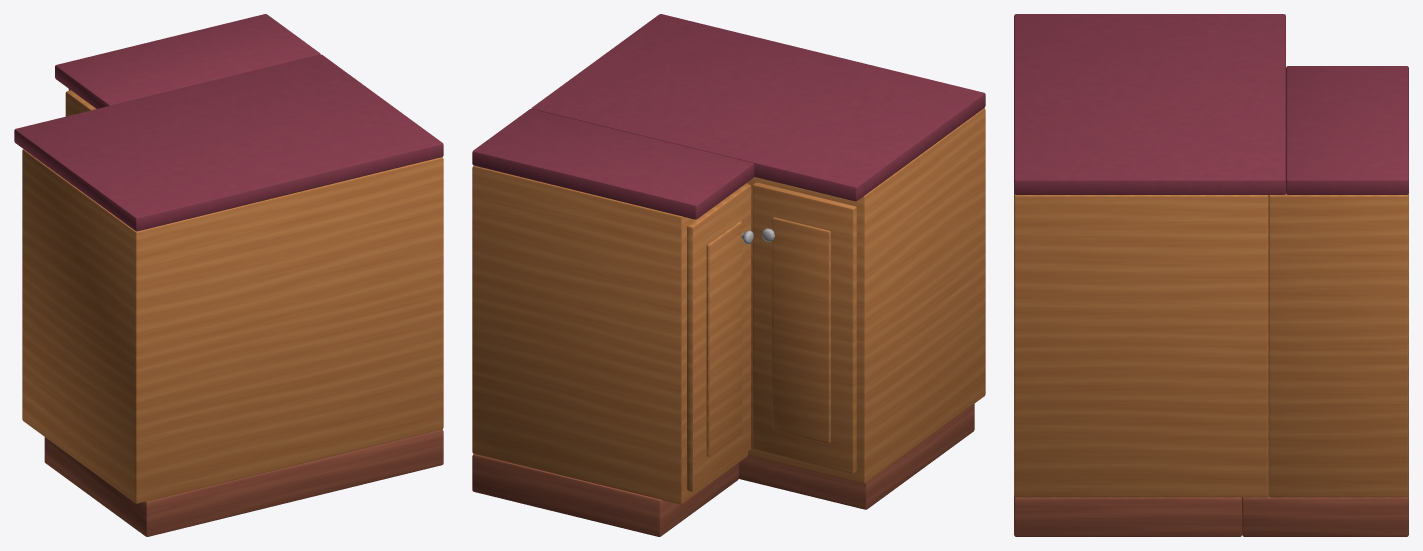
Rendered from SM_Cabinet_Base_Corner_1x1.fbx.
The picture shows the model from 3 angles, left to right: view 1: azimuth 30°, elevation 25°; view 2: azimuth 150°, elevation 25°; view 3: azimuth 270°, elevation 25°; orthographic projection. The views are drawn at different scales.
Parts seen in each view (by area): view 1: SM_Cabinet_Base_Corner_1x1; view 2: SM_Cabinet_Base_Corner_1x1; view 3: SM_Cabinet_Base_Corner_1x1.
Part boxes in pixels (bbox=[...]): SM_Cabinet_Base_Corner_1x1: bbox=[14, 14, 443, 536]; SM_Cabinet_Base_Corner_1x1: bbox=[472, 14, 985, 536]; SM_Cabinet_Base_Corner_1x1: bbox=[1014, 14, 1408, 536].
Size of what is drawn, in the model's own units: 0.9 by 0.9 by 0.9.
4 materials, 4 textured.
